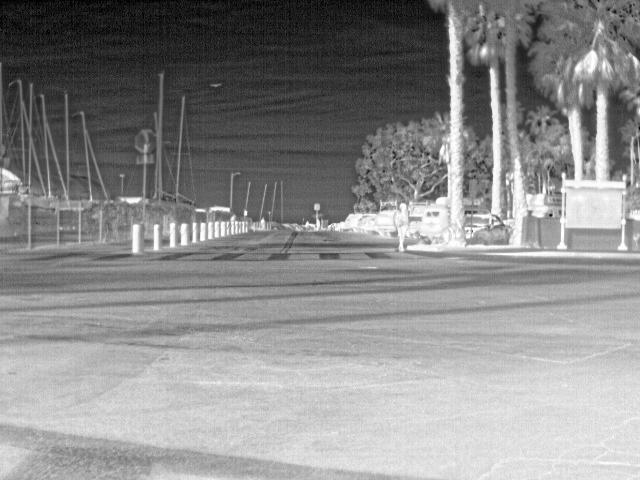car: (464, 212, 511, 245), (418, 205, 449, 245), (376, 209, 395, 239), (531, 206, 563, 220), (406, 207, 420, 238), (358, 213, 376, 233), (341, 213, 357, 232), (328, 221, 341, 232)
person: (394, 200, 407, 252), (257, 214, 267, 230)
